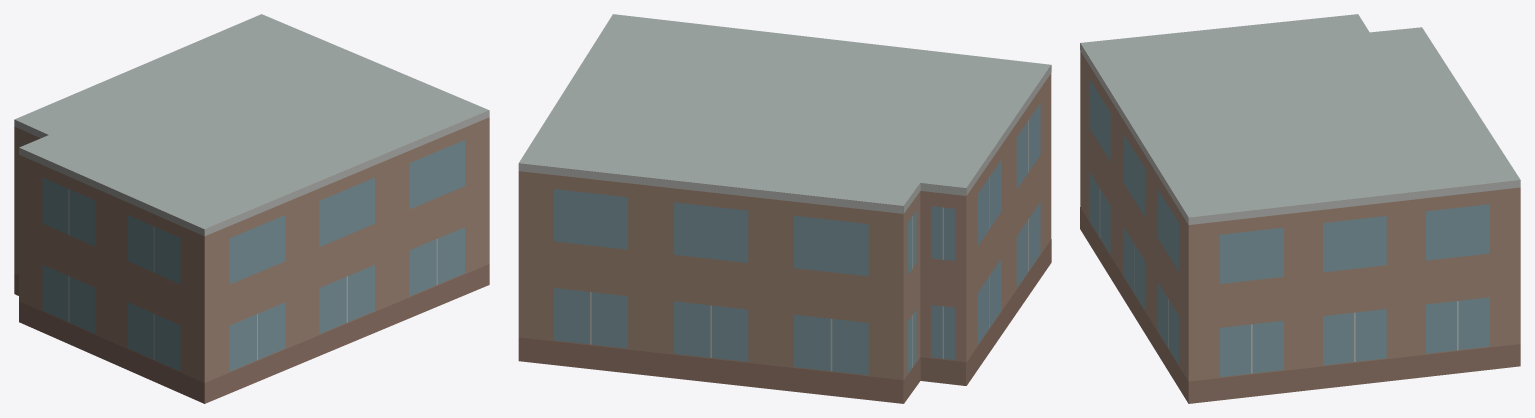
The model's file is survey-upis-32664964.glb.
3 views of the same model, side by side, from view 1: azimuth 30°, elevation 25°; view 2: azimuth 150°, elevation 25°; view 3: azimuth 270°, elevation 25° (orthographic). The views are drawn at different scales.
Parts seen in each view (by area): view 1: survey-upis-32664964.tmp; view 2: survey-upis-32664964.tmp; view 3: survey-upis-32664964.tmp.
Boxes of the visible parts, <box> form: survey-upis-32664964.tmp: <box>14,14,489,403</box>; survey-upis-32664964.tmp: <box>518,14,1051,403</box>; survey-upis-32664964.tmp: <box>1080,14,1520,403</box>.
Size of the model in its own units: 14.32 by 6.1 by 13.09.
